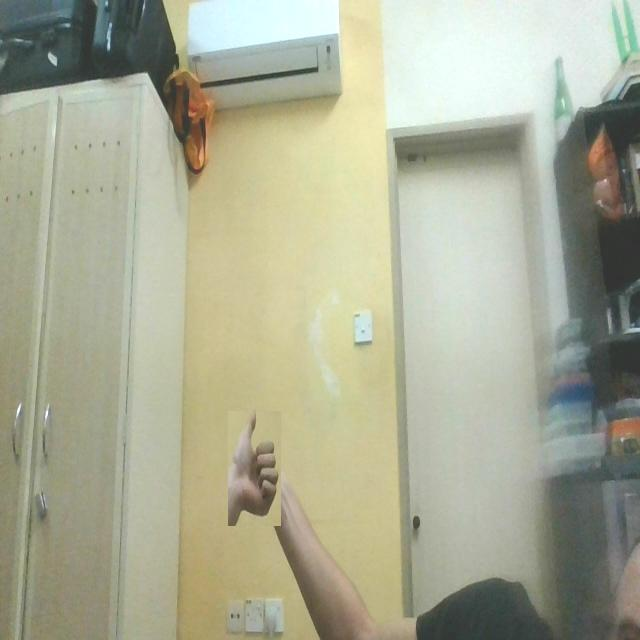thumbs up: (228, 411, 281, 526)
